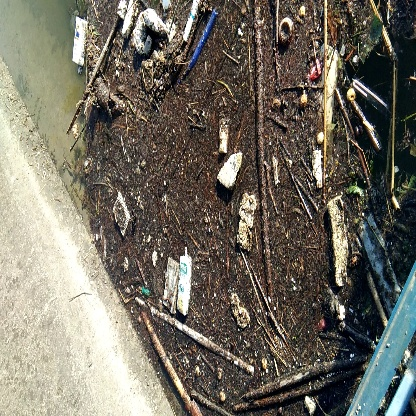branch: (249, 15, 277, 297), (233, 358, 357, 405)
milk-box: (175, 244, 198, 315), (68, 13, 89, 71)
